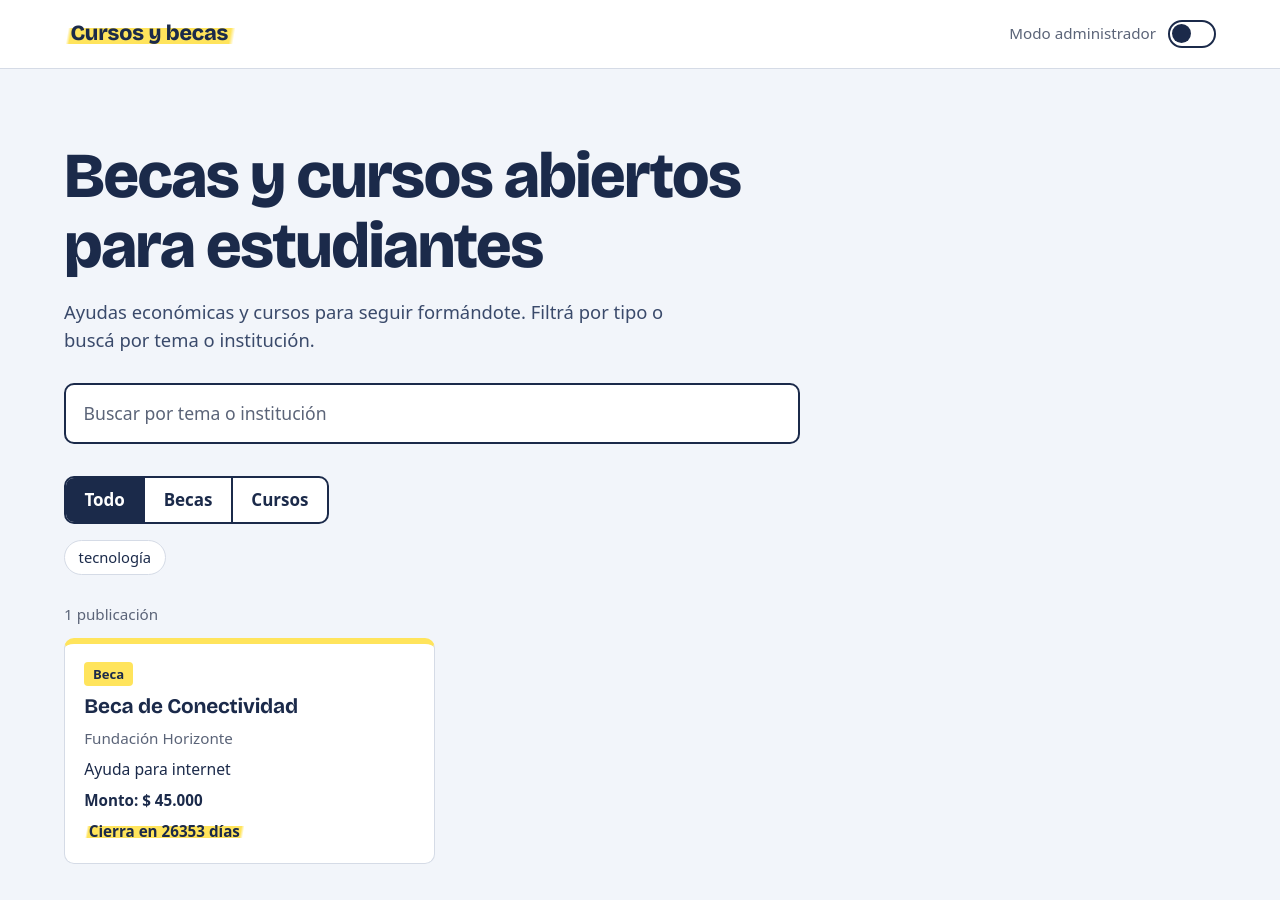
Galería › el interruptor pasa a modo administrador y pide también las ocultas
Expected: the link "Beca de Conectividad" is shown, x1=84 y1=694 x2=298 y2=720
Click the switch named "Modo administrador". click: (1192, 34)
box: x1=1168 y1=20 x2=1216 y2=48
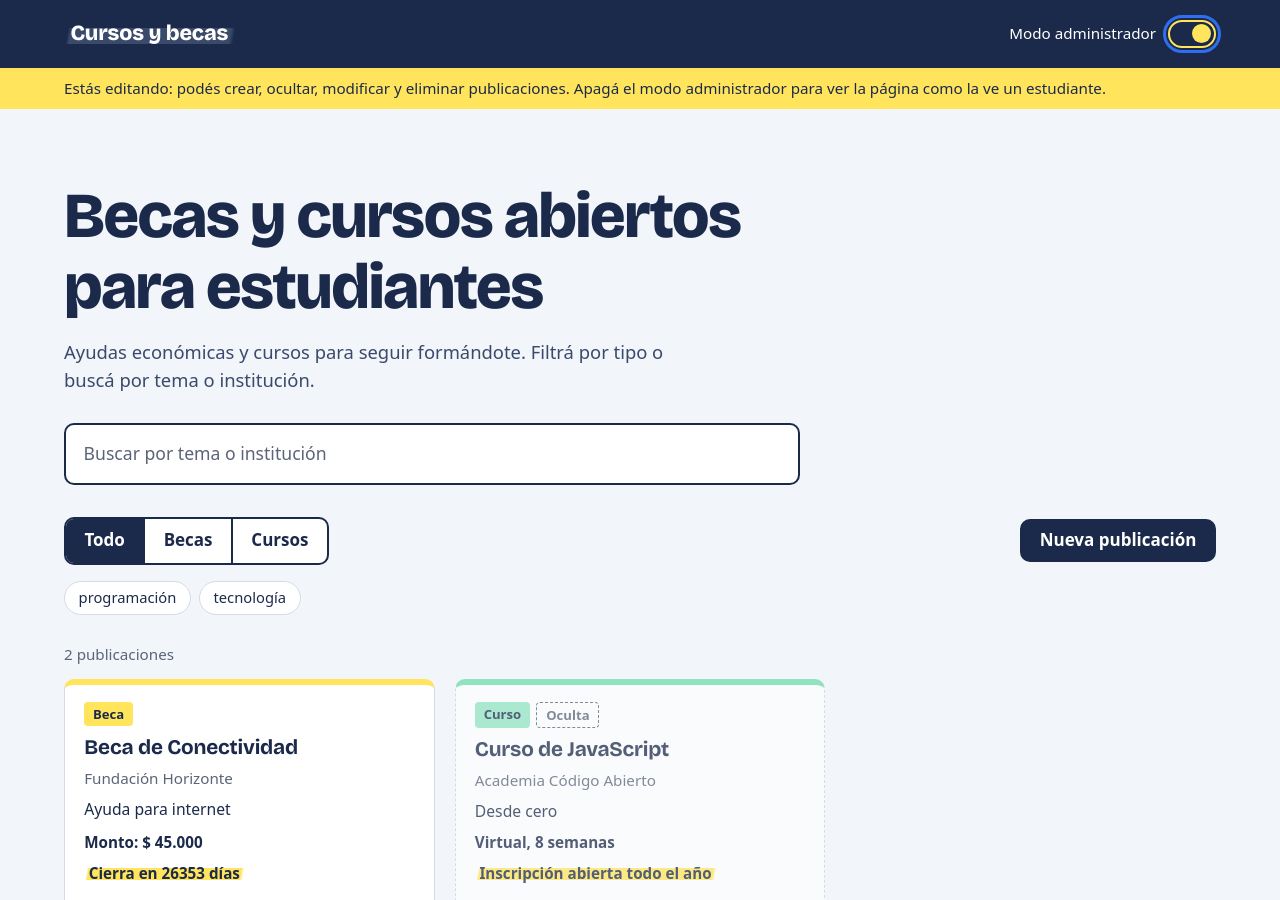
Expected: the link "Curso de JavaScript" is shown, x1=475 y1=737 x2=669 y2=762
Expected: the text "Oculta" is shown, x1=536 y1=702 x2=599 y2=728
Expected: the link "Nueva publicación" is shown, x1=1020 y1=519 x2=1216 y2=562
